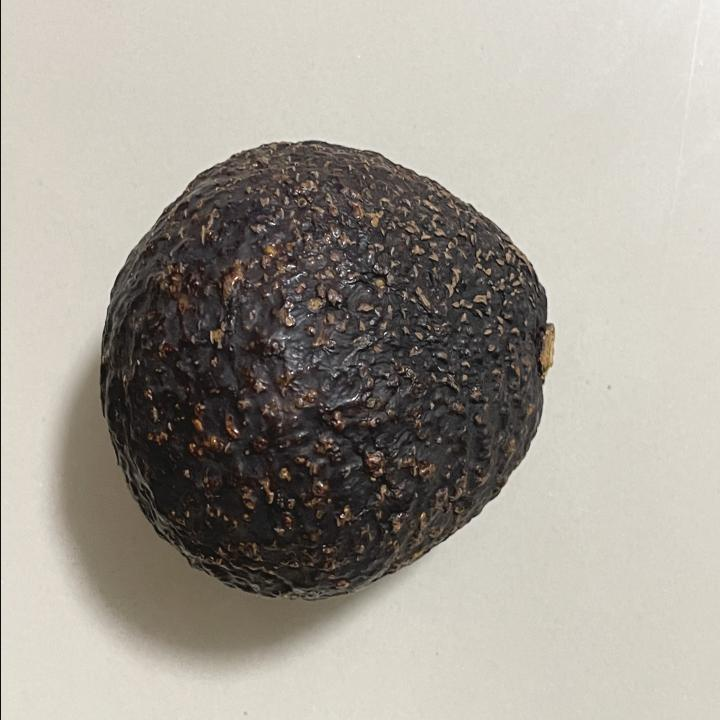Level3: (90, 126, 566, 610)
